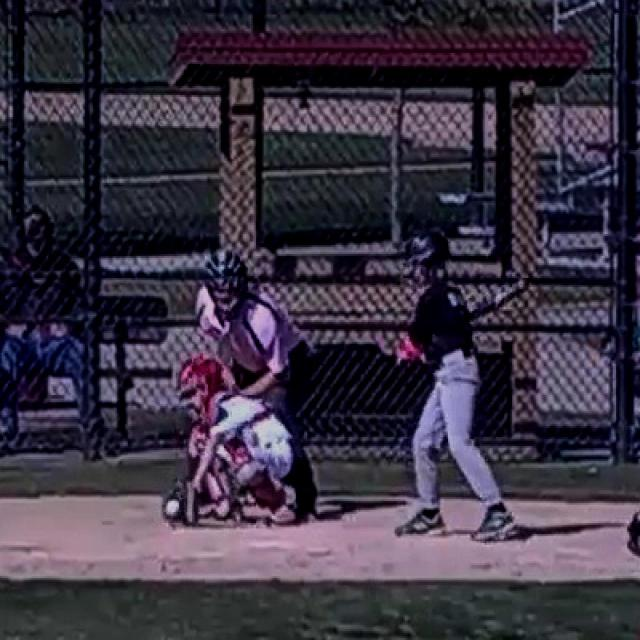baseball: (166, 499, 180, 516)
